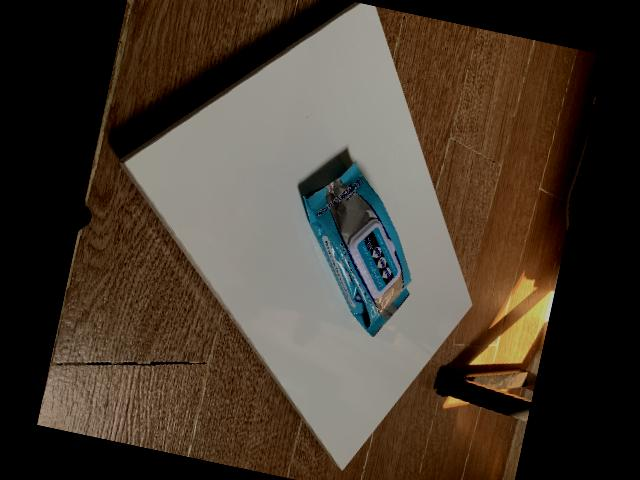Let-green_alcohol_wipes: (296, 148, 409, 337)
cart: (295, 145, 410, 337)
